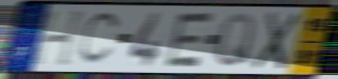4: (127, 10, 165, 68)
C: (76, 10, 123, 67)
E: (161, 11, 217, 70)
H: (29, 9, 90, 68)
Q: (212, 11, 258, 69)
X: (250, 10, 304, 72)
